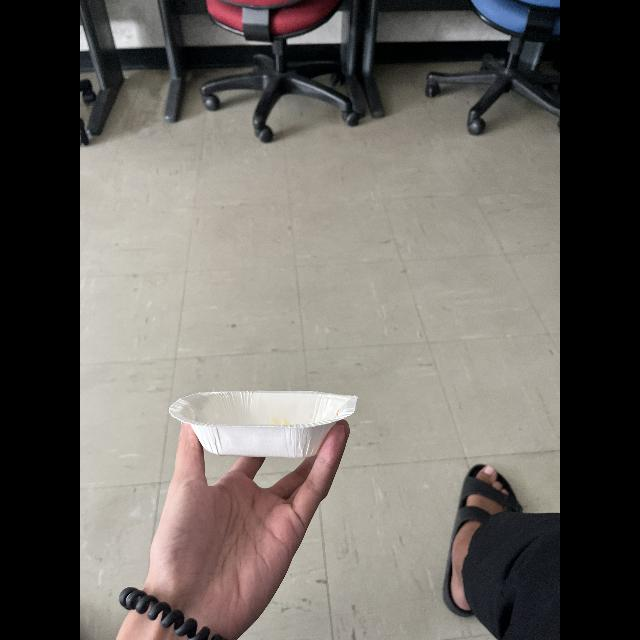cardboard_bowl: (166, 383, 360, 467)
